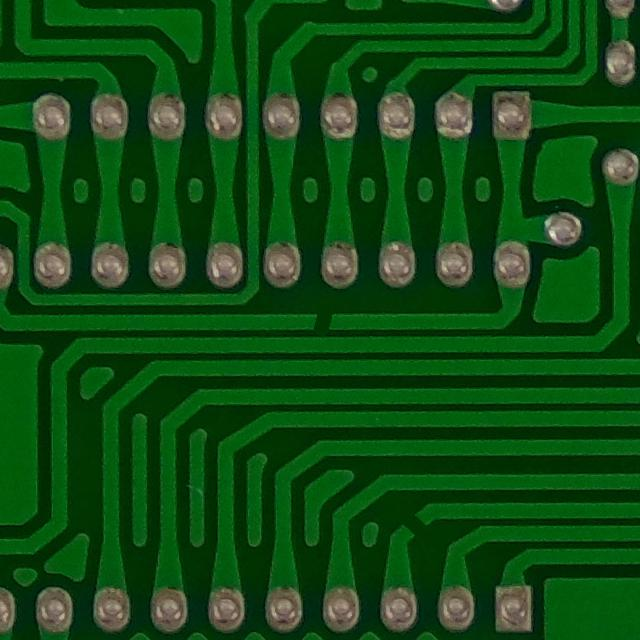open_circuit: (303, 299, 338, 341)
